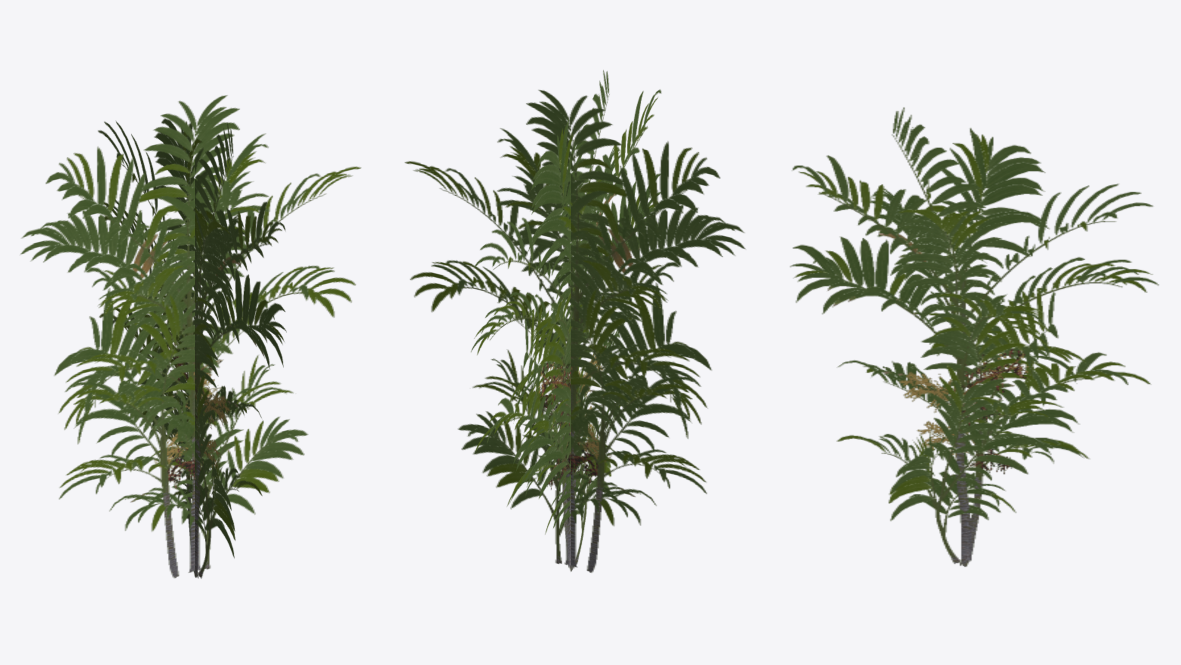
The model's file is ChamaedoreaElegans.glb.
The picture shows the model from 3 angles, left to right: view 1: azimuth 30°, elevation 25°; view 2: azimuth 150°, elevation 25°; view 3: azimuth 270°, elevation 25°; orthographic projection. The views are drawn at different scales.
Visible parts, largest first — view 1: mesh__mat_billboard_12; view 2: mesh__mat_billboard_12; view 3: mesh__mat_billboard_12.
Boxes of the visible parts, x1=… form: mesh__mat_billboard_12: x1=20, y1=95, x2=360, y2=578; mesh__mat_billboard_12: x1=405, y1=70, x2=745, y2=572; mesh__mat_billboard_12: x1=790, y1=107, x2=1158, y2=566.
Bounding box in the file's own units: 2.26 × 2.98 × 2.22.
Materials: 1 (1 with a texture image).
